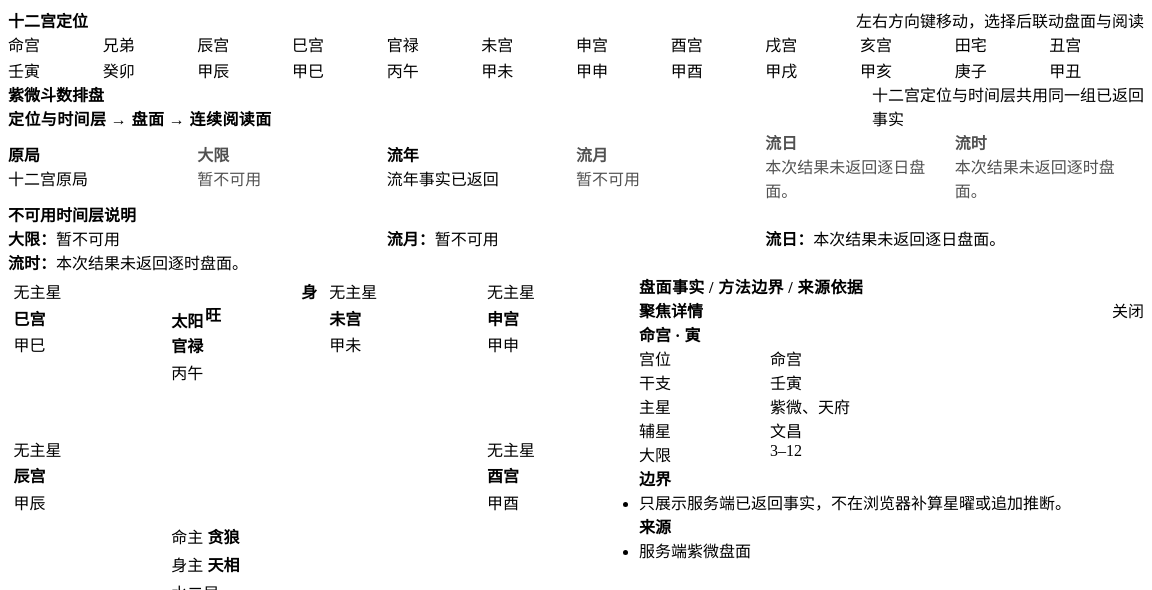
紫微 S3 十二宫环盘 › uses temporal star metadata and transformations without inheriting natal badges
Click the button "流年" at (481, 166), box [387,130,576,202]
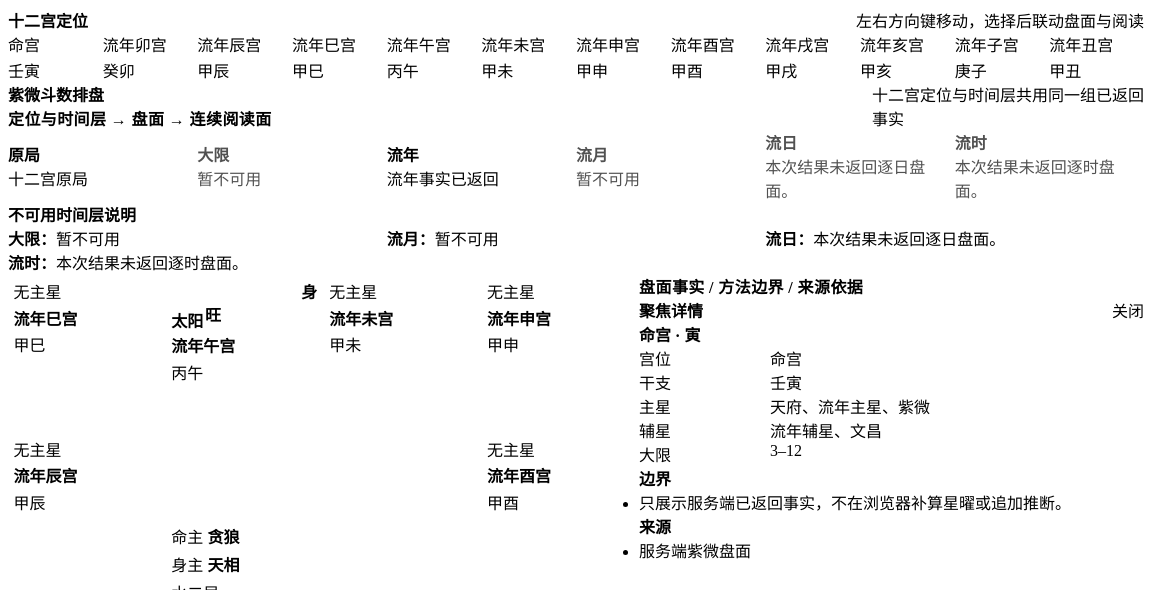
Expected: the button "禄" is gone
Click the button "原局 十二宫原局" at (103, 166), box [8,130,197,202]
(page scrolled)
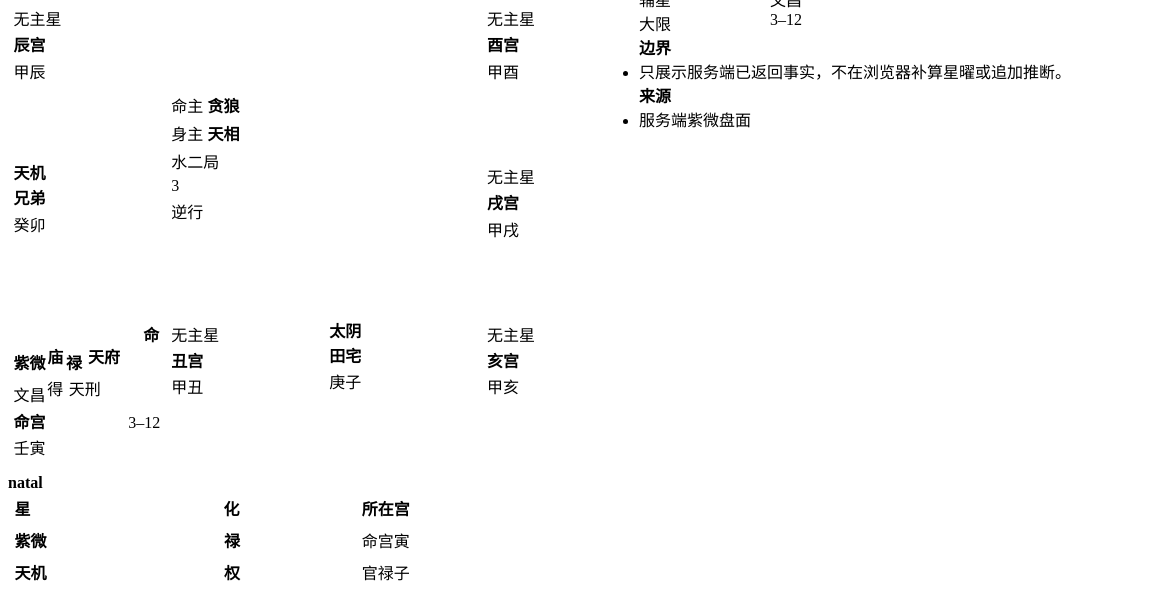
Expected: the text "紫微" reads "紫微庙 禄", [14,348,82,373]
